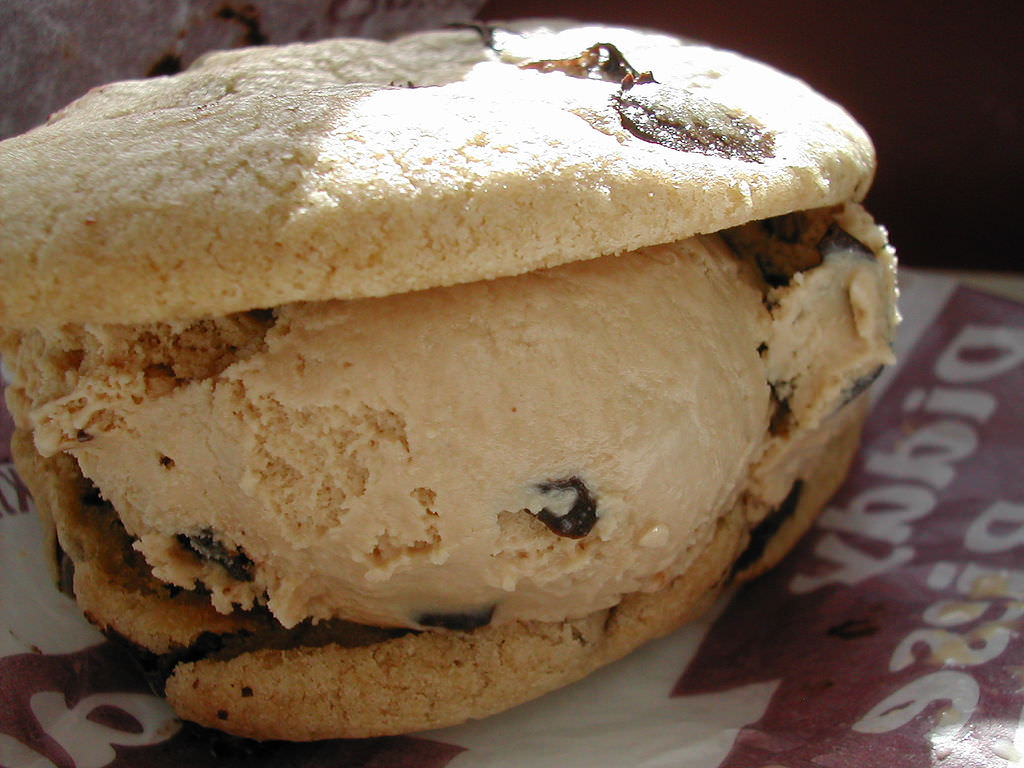slice of bread: (24, 135, 770, 614)
